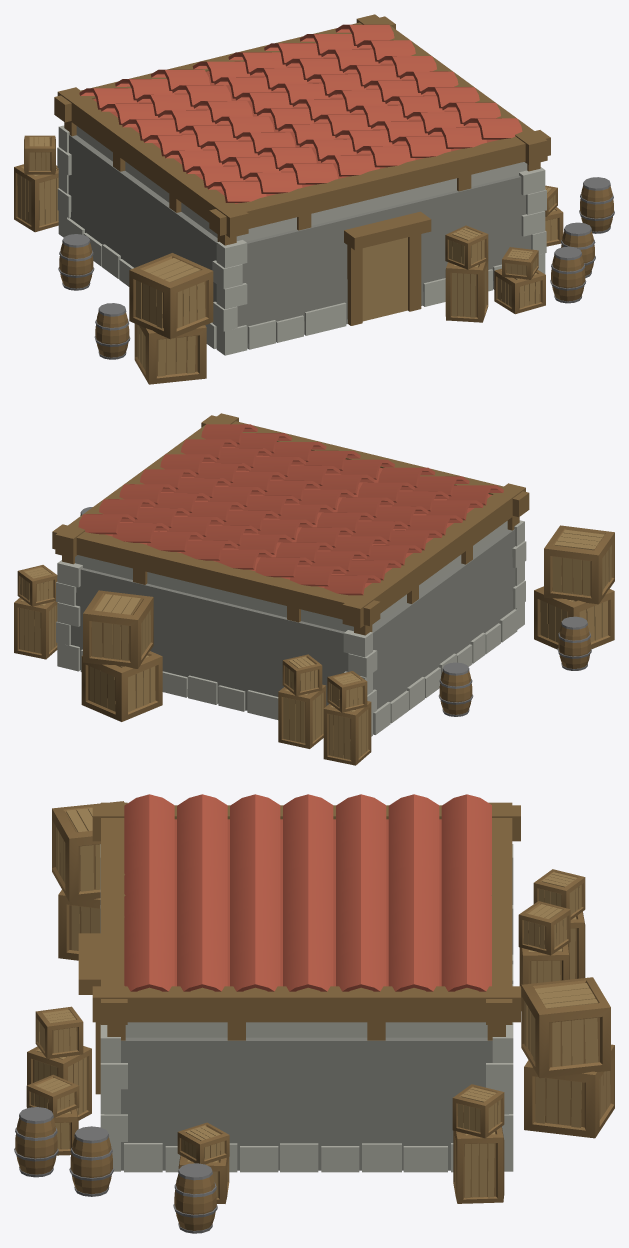
File: m_storage2.glb
The picture shows the model from 3 angles, top to bottom: view 1: azimuth 30°, elevation 25°; view 2: azimuth 150°, elevation 25°; view 3: azimuth 270°, elevation 25°; orthographic projection. The views are drawn at different scales.
Parts seen in each view (by area): view 1: Storage_SecondAge_Level1; view 2: Storage_SecondAge_Level1; view 3: Storage_SecondAge_Level1.
Part boxes in pixels (x1,y1,x2,y2): Storage_SecondAge_Level1: [14, 14, 614, 384]; Storage_SecondAge_Level1: [14, 413, 614, 765]; Storage_SecondAge_Level1: [14, 794, 614, 1233].
Bounding box in the file's own units: 1.72 × 0.5015 × 1.38.
